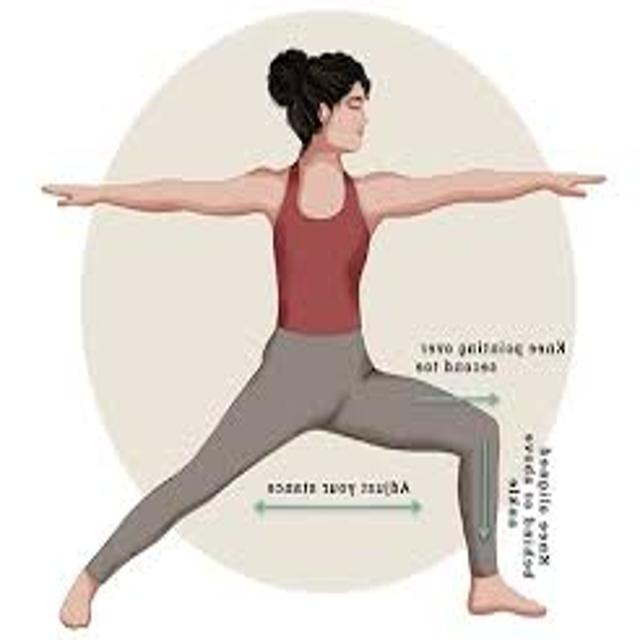Warrior_II: (37, 50, 602, 627)
